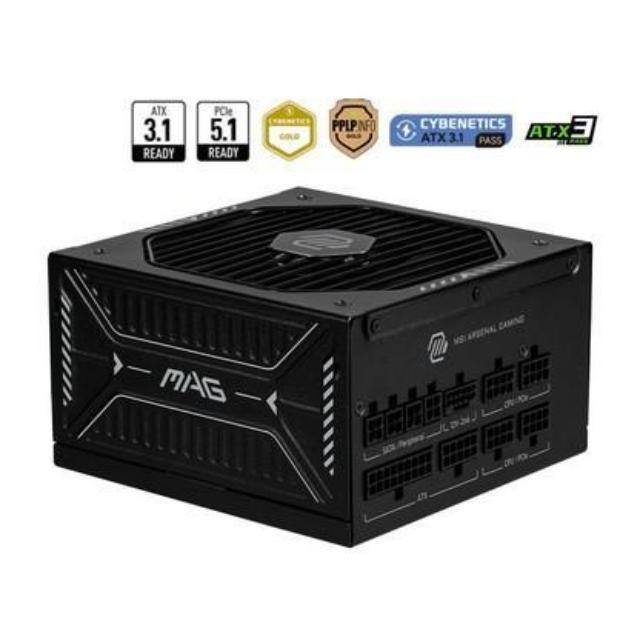PSU: (39, 183, 606, 554)
